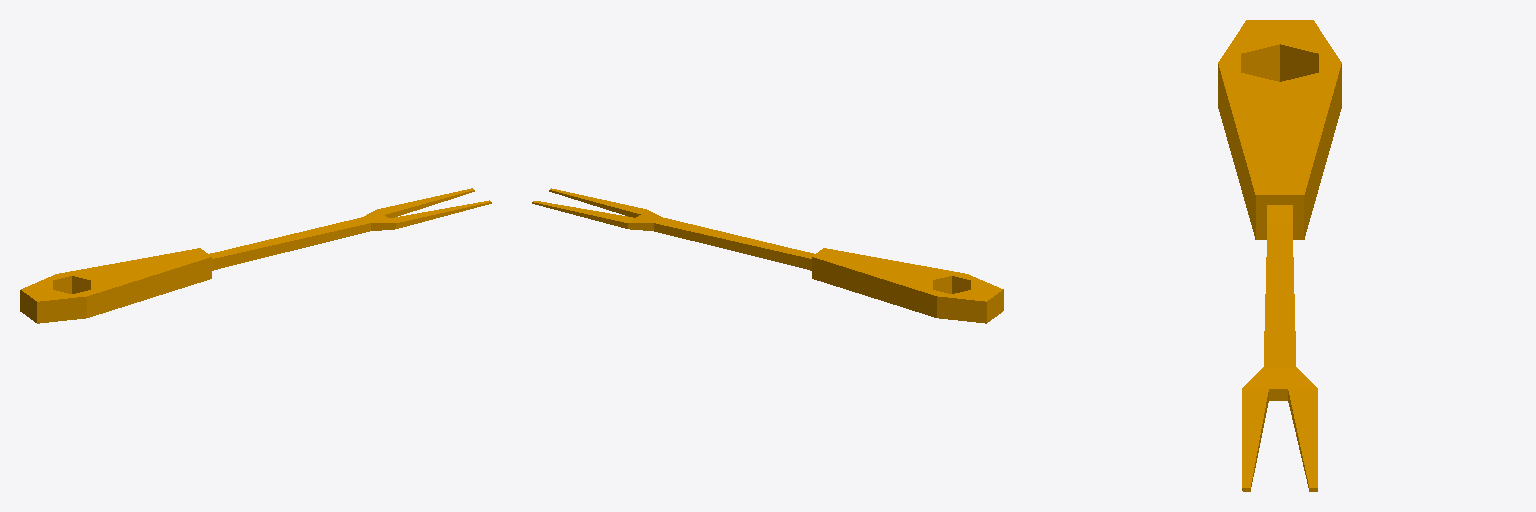
The robot description file, URDF, robot "grillfork":
<?xml version="0.0" ?>
<robot name="grillfork">
  <link name="grillfork">
  <contact>
      <lateral_friction value="1"/>
  </contact>
    <inertial>
      <origin rpy="0 0 0" xyz="0 0 0"/>
       <mass value="0.2"/>
       <inertia ixx="0.019" ixy="0" ixz="0" iyy="0.019" iyz="0" izz="0.019"/>
    </inertial>
    <visual>
      <origin rpy="0 0 0" xyz="0 0 0"/>
      <geometry>
	<mesh filename="GrillForkVisual.obj" scale="1 1 1"/>
      </geometry>
    </visual>
    <collision>
      <origin rpy="0 0 0" xyz="0 0 0"/>
      <geometry>
	<mesh filename="GrillForkCollision.obj" scale="1 1 1"/>
      </geometry>
    </collision>
  </link>
</robot>

--- What the picture shows (computed from the rendered views, not written in the file) ---
The picture shows the robot from 3 angles, left to right: view 1: azimuth 30°, elevation 25°; view 2: azimuth 150°, elevation 25°; view 3: azimuth 270°, elevation 25°; orthographic projection.
Model grillfork with 1 links and 0 joints (none), rooted at grillfork, posed all joints at 0.
Visible links, largest first — view 1: grillfork; view 2: grillfork; view 3: grillfork.
Boxes of the visible links, x1,y1,x2,y2 form: grillfork: [20, 188, 491, 323]; grillfork: [532, 188, 1003, 323]; grillfork: [1218, 20, 1341, 491].
Size in the robot's own frame: 0.6824 by 0.0799 by 0.0316 metres.
Meshes: 1 distinct files referenced, 1 mesh visuals loaded (1 OBJ).